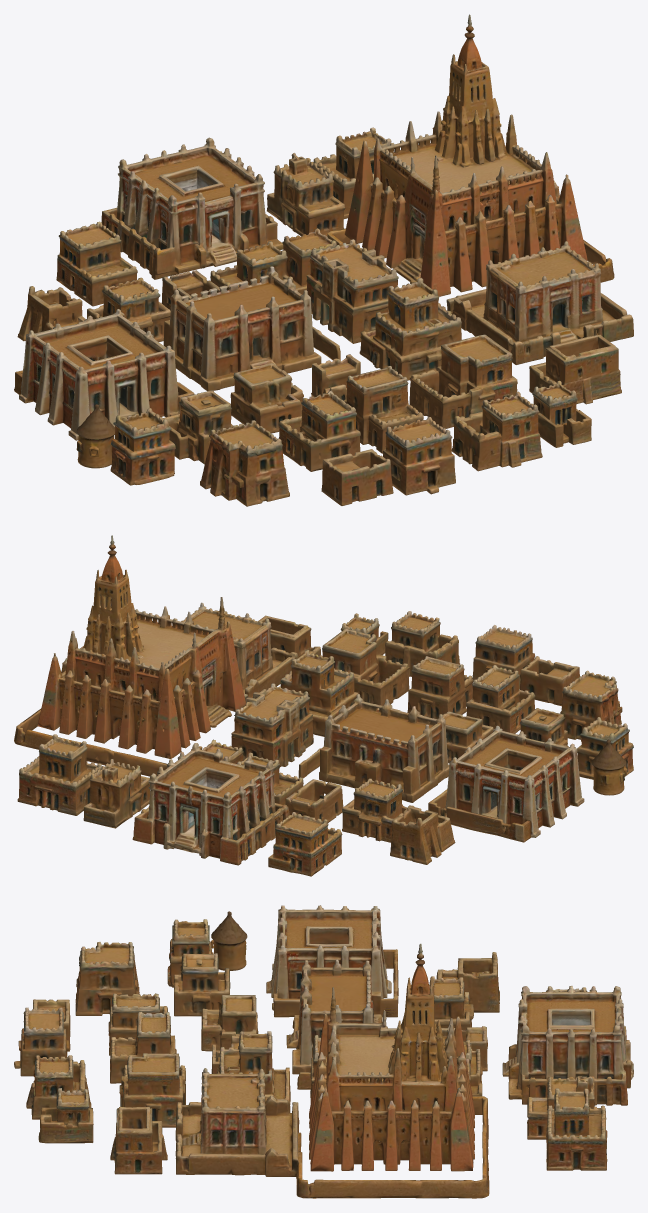
The model's file is Enlightenment Town (West African).fbx.
3 views of the same model, one above another, from view 1: azimuth 30°, elevation 25°; view 2: azimuth 150°, elevation 25°; view 3: azimuth 270°, elevation 25° (orthographic). The views are drawn at different scales.
Visible parts, largest first — view 1: tripo_node_4f0a12d8; view 2: tripo_node_4f0a12d8; view 3: tripo_node_4f0a12d8.
Boxes of the visible parts, left/top/right/bottom form: tripo_node_4f0a12d8: left=14, top=14, right=633, bottom=506; tripo_node_4f0a12d8: left=14, top=535, right=633, bottom=876; tripo_node_4f0a12d8: left=14, top=905, right=633, bottom=1198.
Size of the model in its own units: 0.9958 by 0.425 by 1.
